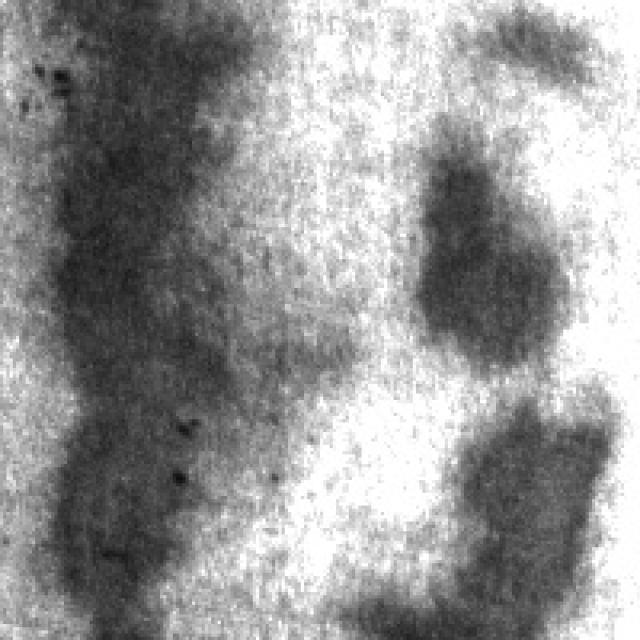patches: (45, 0, 243, 621), (374, 388, 614, 630), (426, 125, 576, 378), (487, 0, 615, 86)
